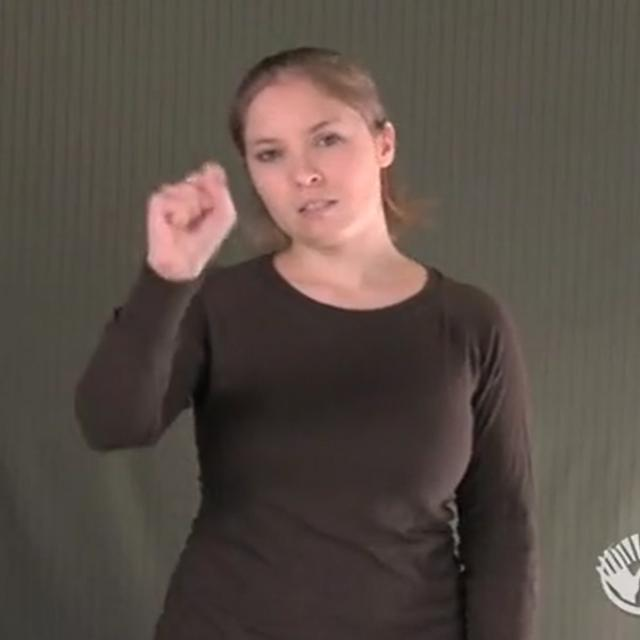yes: (148, 162, 237, 260)
